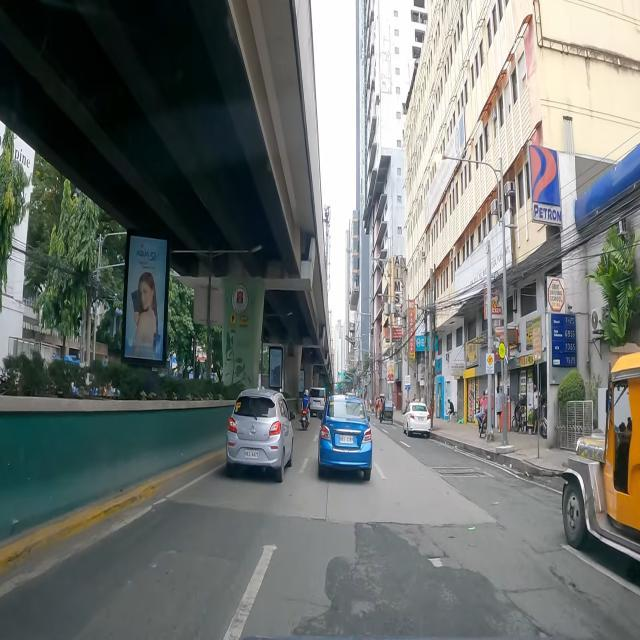bike: (376, 397, 378, 419)
car: (225, 388, 294, 482), (318, 394, 372, 480), (403, 401, 431, 436)
jeepney: (561, 352, 640, 561)
motorcycle: (474, 391, 488, 438), (511, 393, 527, 434), (300, 390, 310, 430)
tricycle: (378, 394, 394, 424)
